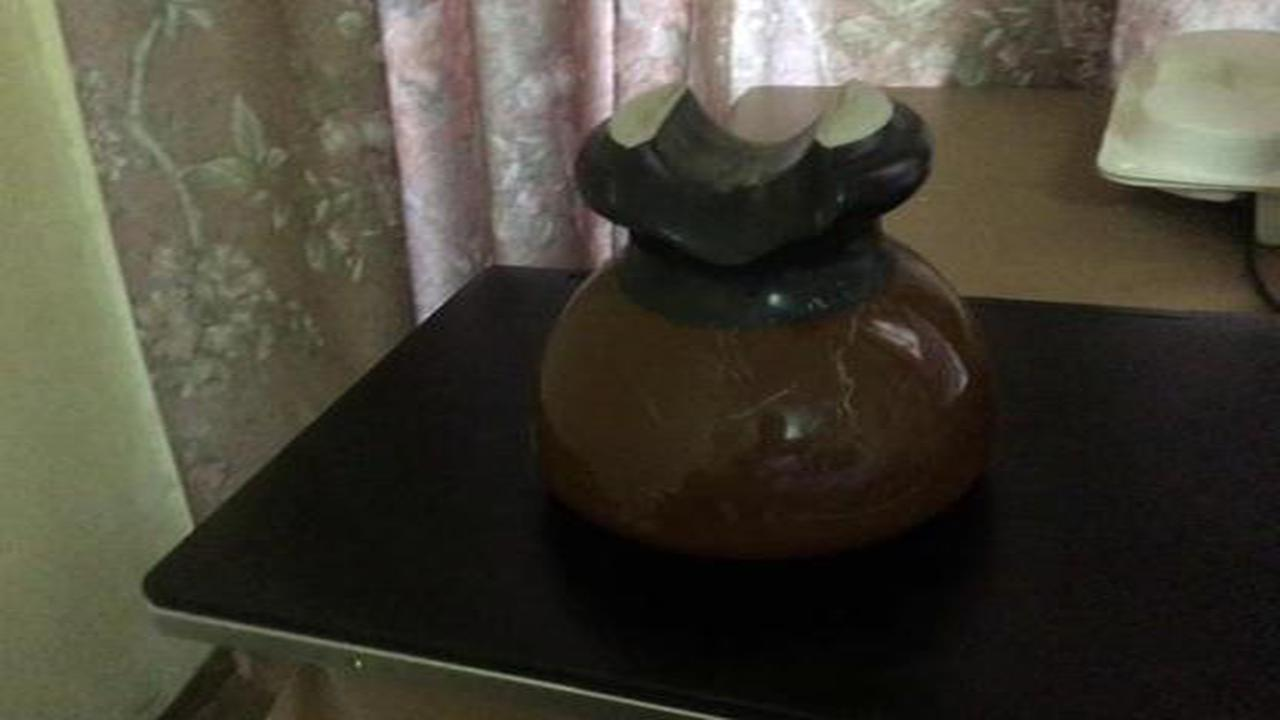insulator_pin: (514, 69, 1037, 575)
